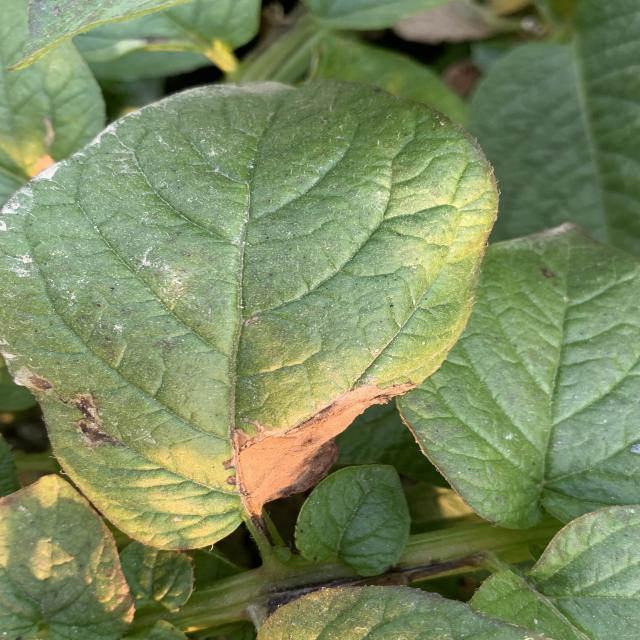lateblight: (237, 382, 415, 515)
